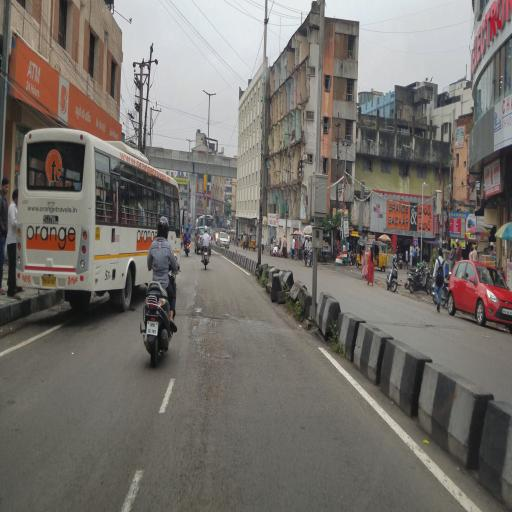street_light_0: (198, 84, 211, 104), (208, 87, 220, 106)
